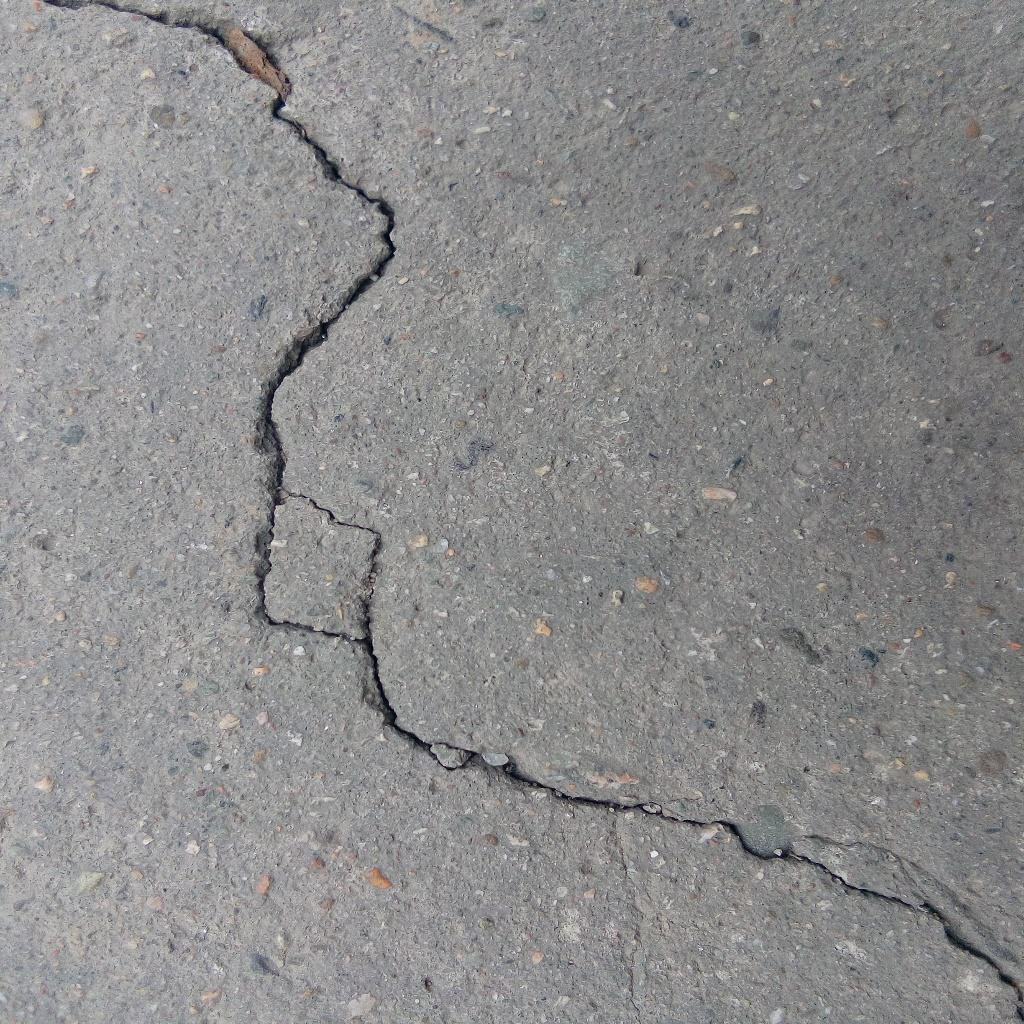Crack: (43, 1, 1024, 1024)
